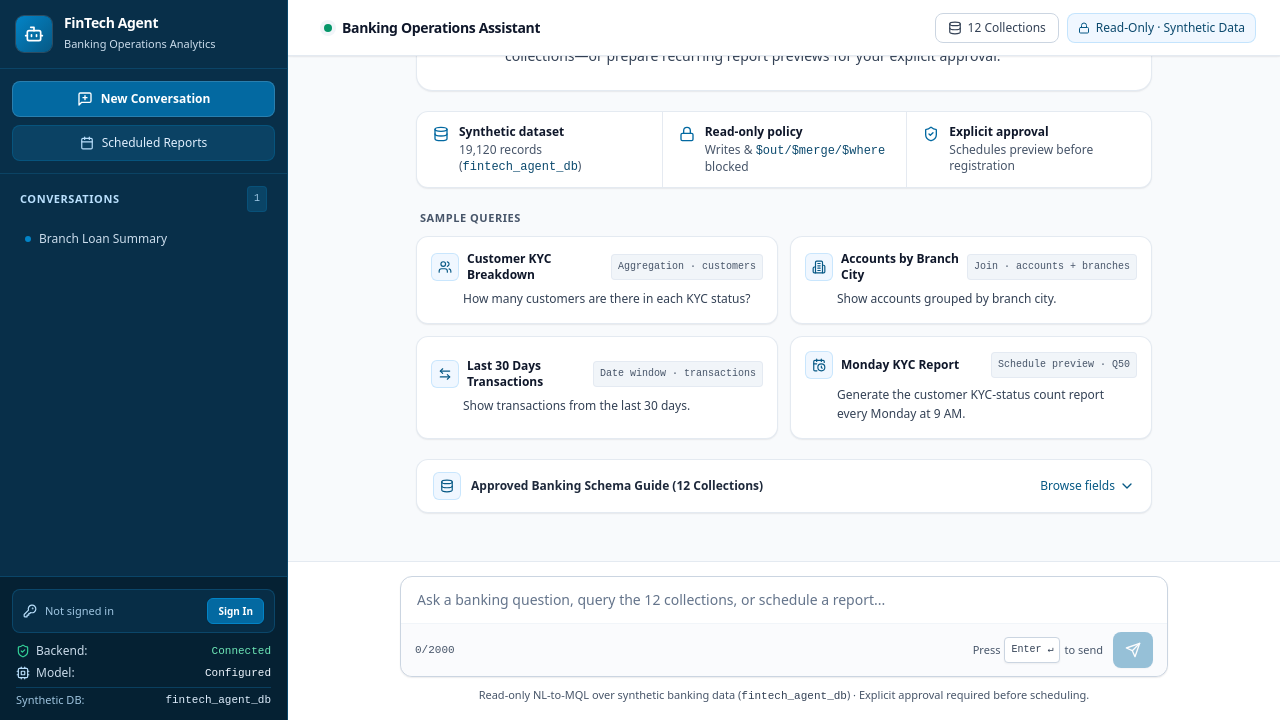
Test: FinTech Agent Frontend Chat Tests › 17. Switching conversations aborts an in-flight request without leaking its prompt across threads
(page scrolled)
Replace the text in the text box with placeholder "Ask a banking question" with "Old thread pending query" at (784, 600), box x1=401 y1=577 x2=1167 y2=623
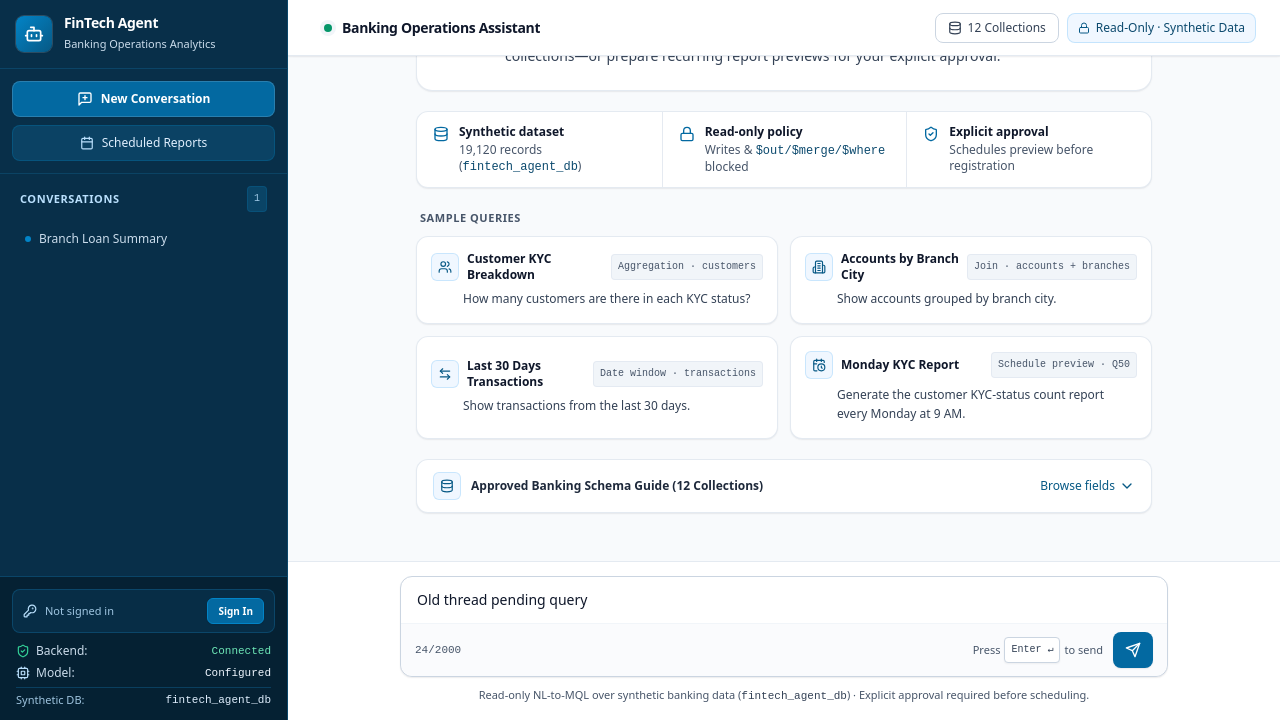
Click the button named "Send message" at (1133, 650), box x1=1113 y1=632 x2=1153 y2=668
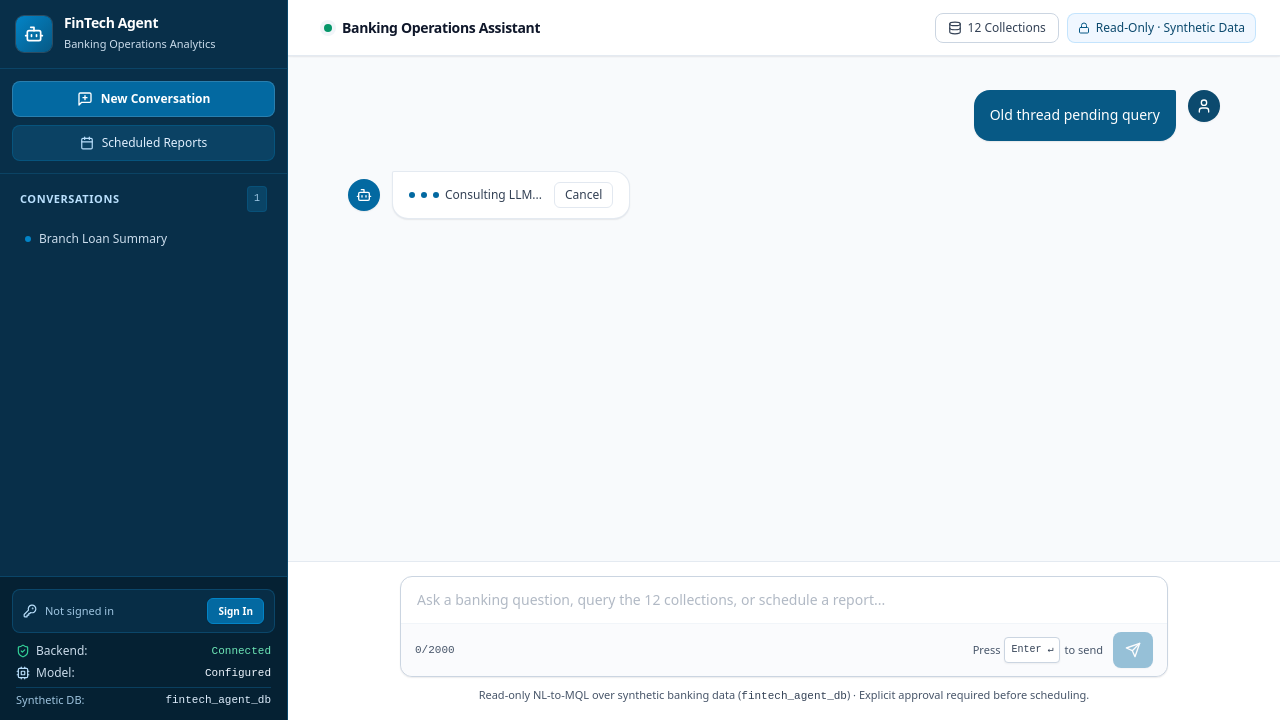
Check: the text "Consulting LLM..." is shown, box x1=445 y1=187 x2=542 y2=203
Click the button "Branch Loan Summary" at (126, 238), box x1=13 y1=222 x2=240 y2=254
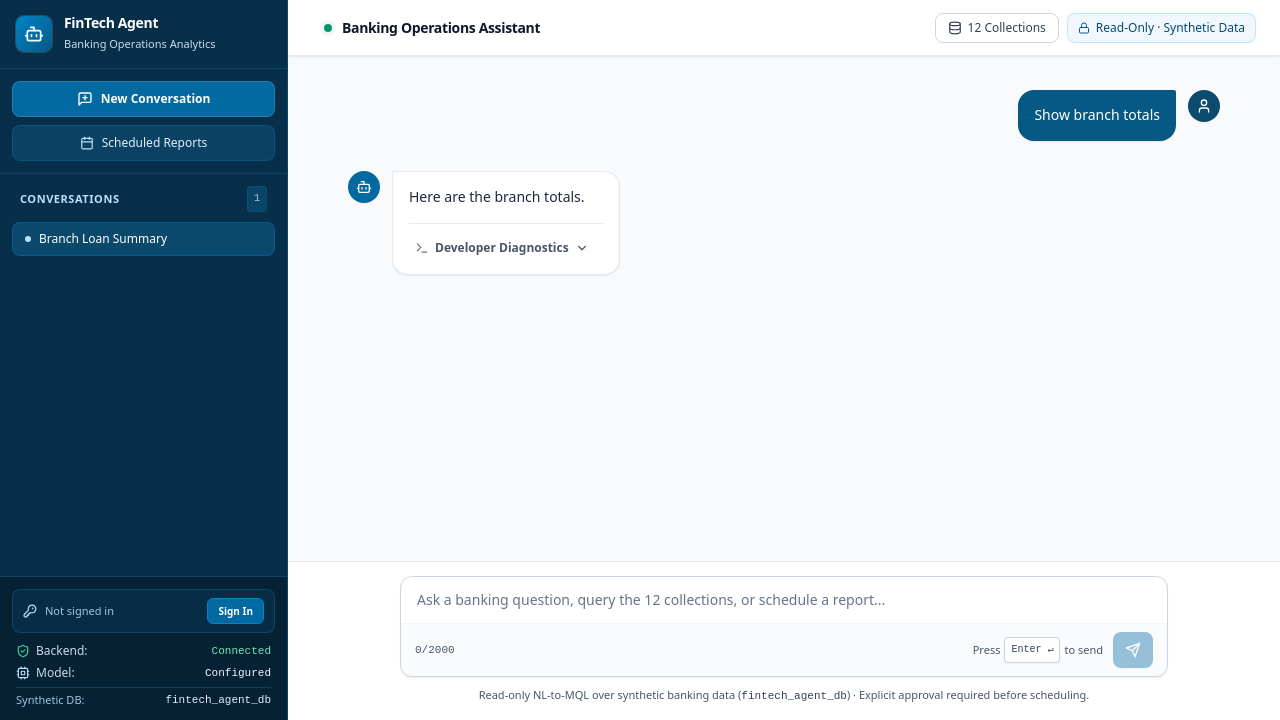
Check: the text box with placeholder "Ask a banking question" is empty, box x1=401 y1=577 x2=1167 y2=623
Check: the text "Here are the branch totals." is shown, box x1=409 y1=186 x2=603 y2=209
